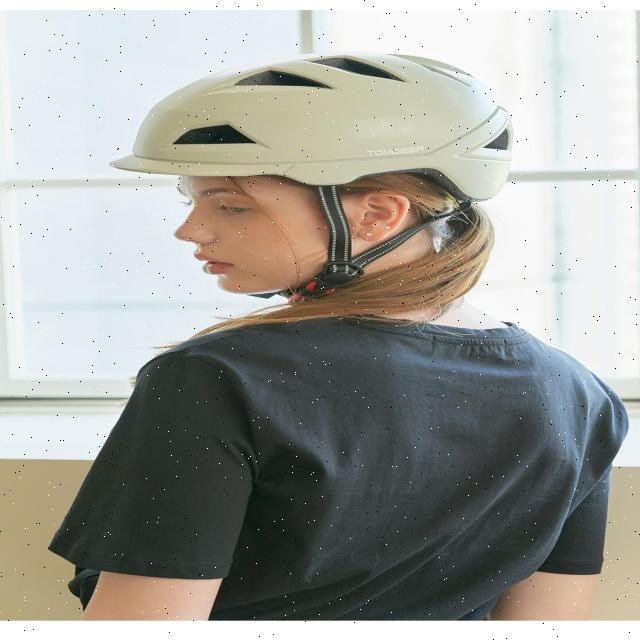helmet: (110, 48, 516, 304)
